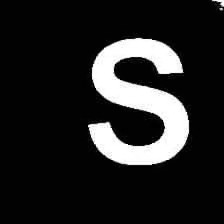LTR_S: (86, 29, 194, 170)
